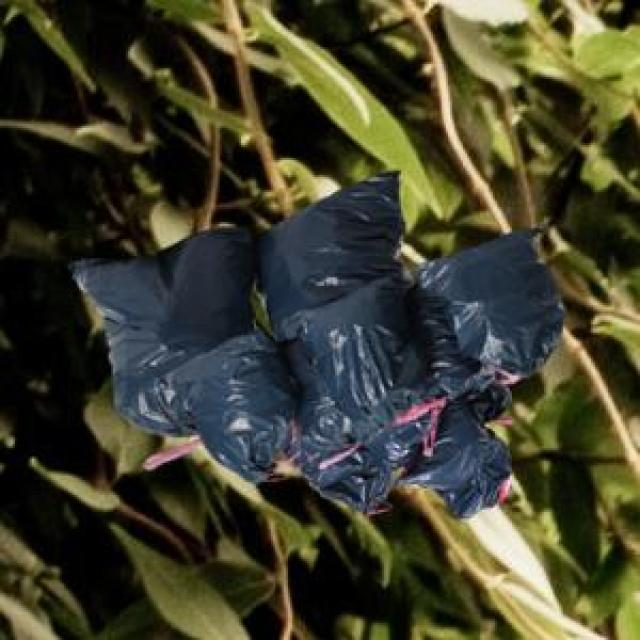Vinyl: (70, 231, 246, 416), (279, 273, 429, 449), (422, 232, 574, 388), (174, 338, 294, 478), (397, 400, 515, 521)
